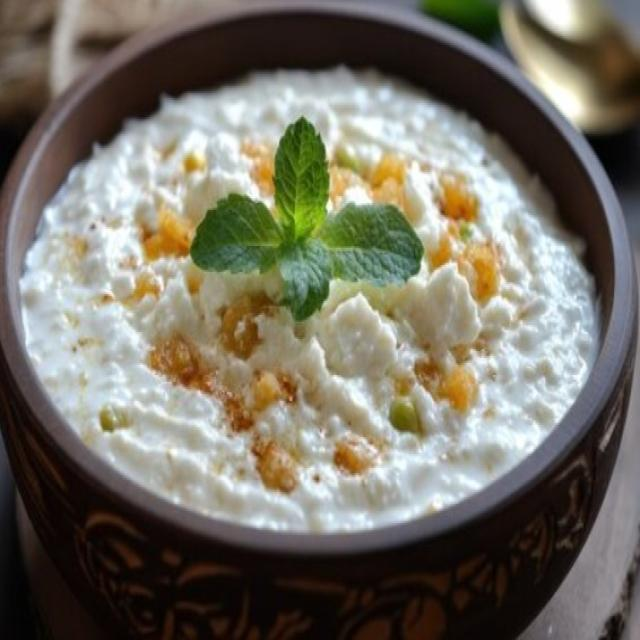CURD RICE: (18, 66, 598, 531)
